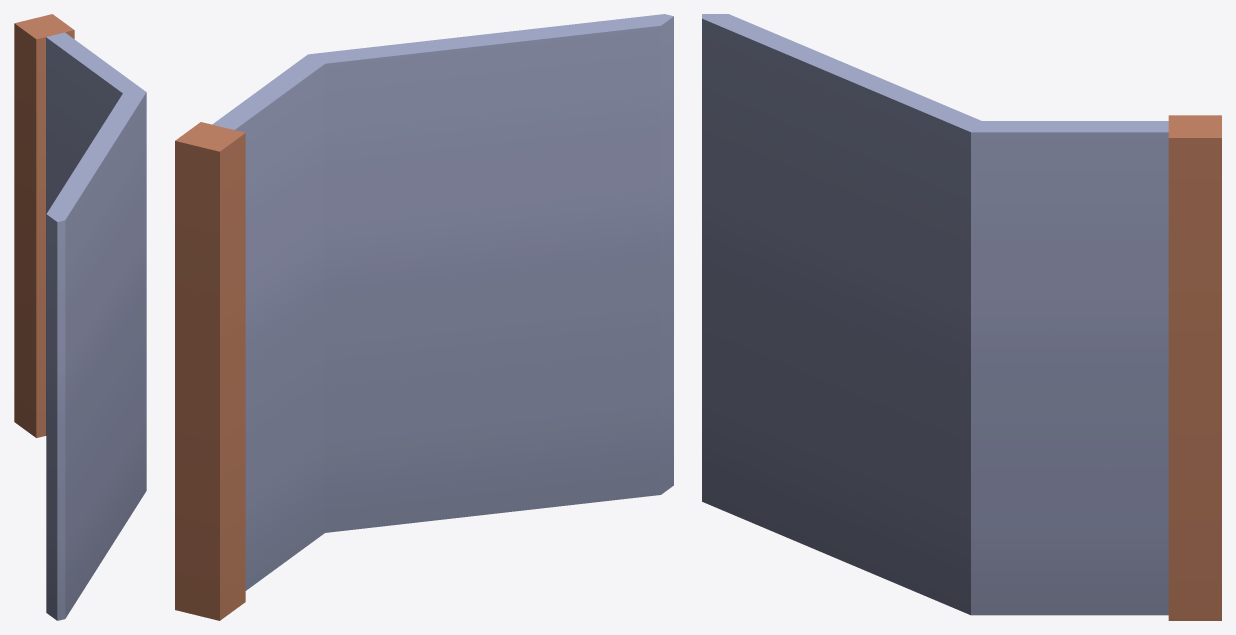
Rendered from wall-corner-diagonal-half.glb.
The picture shows the model from 3 angles, left to right: view 1: azimuth 30°, elevation 25°; view 2: azimuth 150°, elevation 25°; view 3: azimuth 270°, elevation 25°; orthographic projection. The views are drawn at different scales.
Parts seen in each view (by area): view 1: wall-corner-diagonal-half; view 2: wall-corner-diagonal-half; view 3: wall-corner-diagonal-half.
Part boxes in pixels (bbox=[...]): wall-corner-diagonal-half: bbox=[14, 14, 146, 620]; wall-corner-diagonal-half: bbox=[175, 14, 673, 620]; wall-corner-diagonal-half: bbox=[702, 14, 1221, 620].
Bounding box in the file's own units: 0.55 × 1 × 0.975.
1 material, 1 textured.
